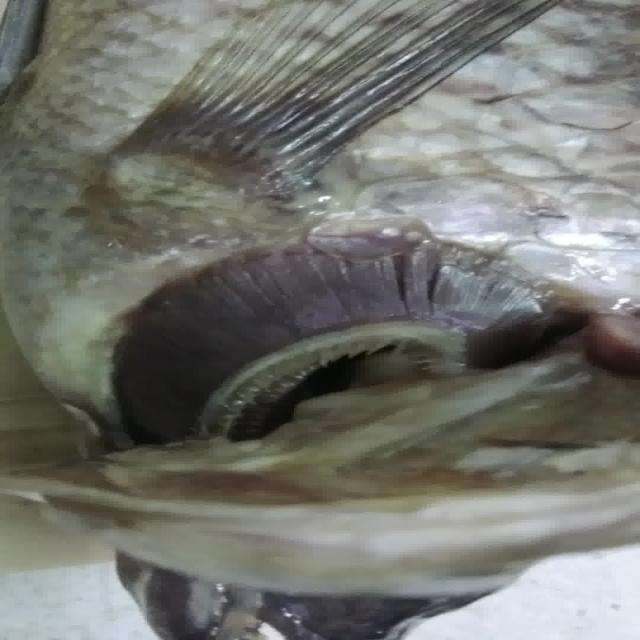Non-Fresh: (83, 233, 585, 452)
